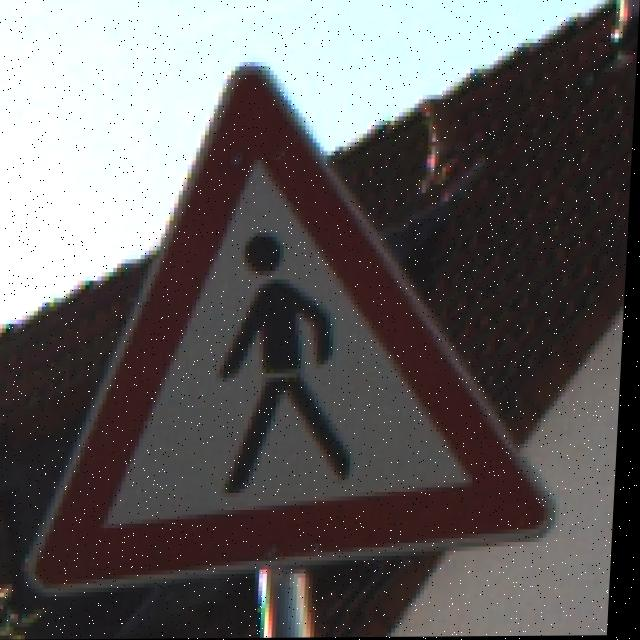crosswalk: (80, 97, 548, 569)
